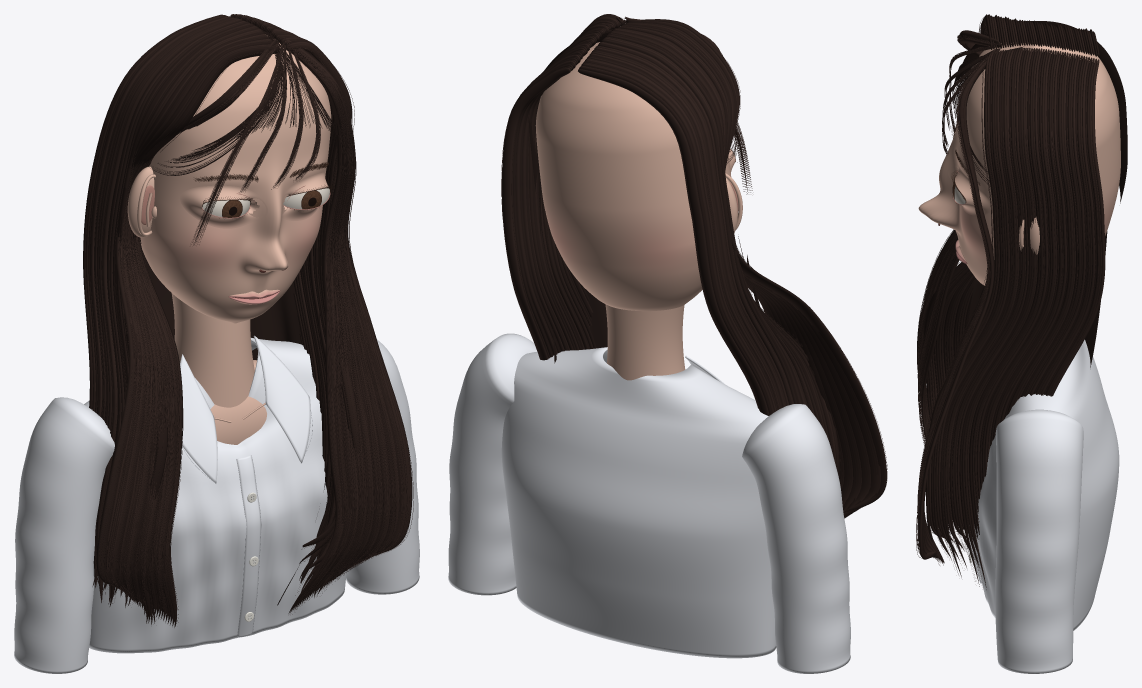
File: gpt6_astra_pro_mcp_blender_rgirl_top_half.glb
The picture shows the model from 3 angles, left to right: view 1: azimuth 30°, elevation 25°; view 2: azimuth 150°, elevation 25°; view 3: azimuth 270°, elevation 25°; orthographic projection. The views are drawn at different scales.
Visible parts, largest first — view 1: Web · Shirt · white cotton weave, Web · Hair · chestnut fiber 00, Web · Hair · chestnut fiber 01, Web · Skin · warm porcelain with vertex blush, Web · Hair · chestnut fiber 03, Web · Hair · chestnut fiber 02, Web · Hair · chestnut fiber 04, Web · Skin · neck and ears, Hair filaments · web groom 6, Hair filaments · web groom 5, Hair filaments · web groom 7, Web · Eyes · ivory sclera (+1 smaller); view 2: Web · Shirt · white cotton weave, Web · Skin · warm porcelain with vertex blush, Web · Hair · chestnut fiber 01, Web · Hair · chestnut fiber 03, Web · Hair · chestnut fiber 02, Web · Hair · chestnut fiber 00, Web · Skin · neck and ears; view 3: Web · Shirt · white cotton weave, Web · Hair · chestnut fiber 03, Web · Hair · chestnut fiber 02, Web · Hair · chestnut fiber 01, Web · Hair · chestnut fiber 00, Web · Skin · warm porcelain with vertex blush, Web · Hair · chestnut fiber 04, Hair filaments · web groom 5, Hair filaments · web groom 6, Hair filaments · web groom 7, Hair · original fitted scalp shell, Web · Skin · neck and ears.
Part boxes in pixels (<box>): Web · Shirt · white cotton weave: <box>14,335,419,673</box>; Web · Hair · chestnut fiber 00: <box>83,14,406,624</box>; Web · Hair · chestnut fiber 01: <box>88,14,407,623</box>; Web · Skin · warm porcelain with vertex blush: <box>140,35,331,323</box>; Web · Hair · chestnut fiber 03: <box>91,14,413,626</box>; Web · Hair · chestnut fiber 02: <box>85,14,411,627</box>; Web · Hair · chestnut fiber 04: <box>99,41,409,617</box>; Web · Skin · neck and ears: <box>127,166,266,444</box>; Hair filaments · web groom 6: <box>105,40,403,622</box>; Hair filaments · web groom 5: <box>96,41,407,621</box>; Hair filaments · web groom 7: <box>91,42,398,621</box>; Web · Eyes · ivory sclera: <box>202,188,329,217</box>; Web · Shirt · white cotton weave: <box>448,333,850,673</box>; Web · Skin · warm porcelain with vertex blush: <box>535,42,735,311</box>; Web · Hair · chestnut fiber 01: <box>513,15,886,515</box>; Web · Hair · chestnut fiber 03: <box>501,14,880,516</box>; Web · Hair · chestnut fiber 02: <box>511,14,878,518</box>; Web · Hair · chestnut fiber 00: <box>515,15,883,516</box>; Web · Skin · neck and ears: <box>605,173,742,380</box>; Web · Shirt · white cotton weave: <box>968,339,1119,673</box>; Web · Hair · chestnut fiber 03: <box>916,16,1105,589</box>; Web · Hair · chestnut fiber 02: <box>916,15,1101,565</box>; Web · Hair · chestnut fiber 01: <box>917,14,1107,577</box>; Web · Hair · chestnut fiber 00: <box>917,14,1096,586</box>; Web · Skin · warm porcelain with vertex blush: <box>918,43,1120,285</box>; Web · Hair · chestnut fiber 04: <box>917,35,1094,563</box>; Hair filaments · web groom 5: <box>916,38,1095,561</box>; Hair filaments · web groom 6: <box>917,36,1098,567</box>; Hair filaments · web groom 7: <box>918,36,1101,559</box>; Hair · original fitted scalp shell: <box>960,21,1127,203</box>; Web · Skin · neck and ears: <box>1019,217,1039,254</box>.
Size of the model in its own units: 2.67 by 3.79 by 1.29.
